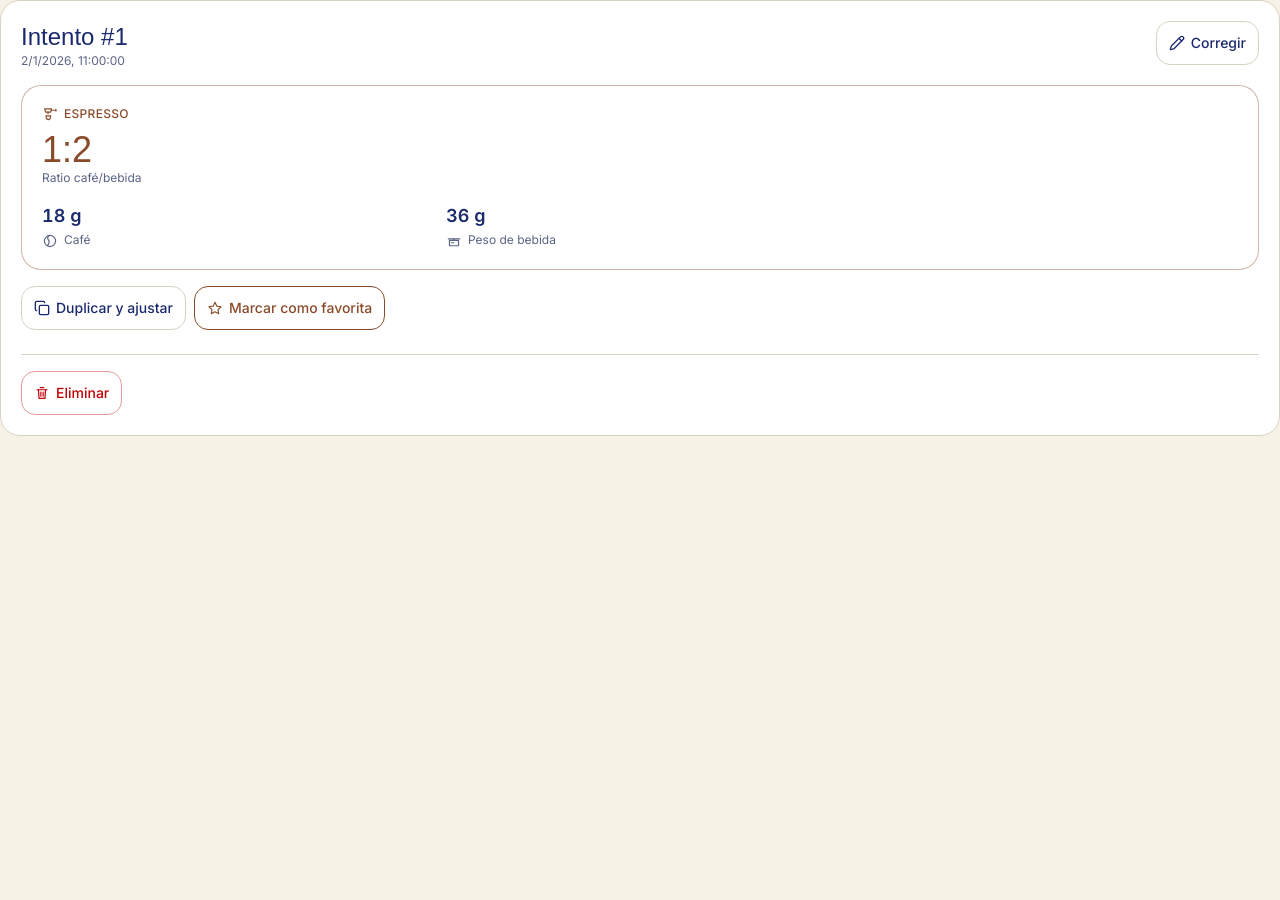
Test: AttemptDetailPanel delete › asks before deleting, naming the act rather than answering Sí/No
Click the button "Eliminar" at (72, 393), box [21,371,122,415]
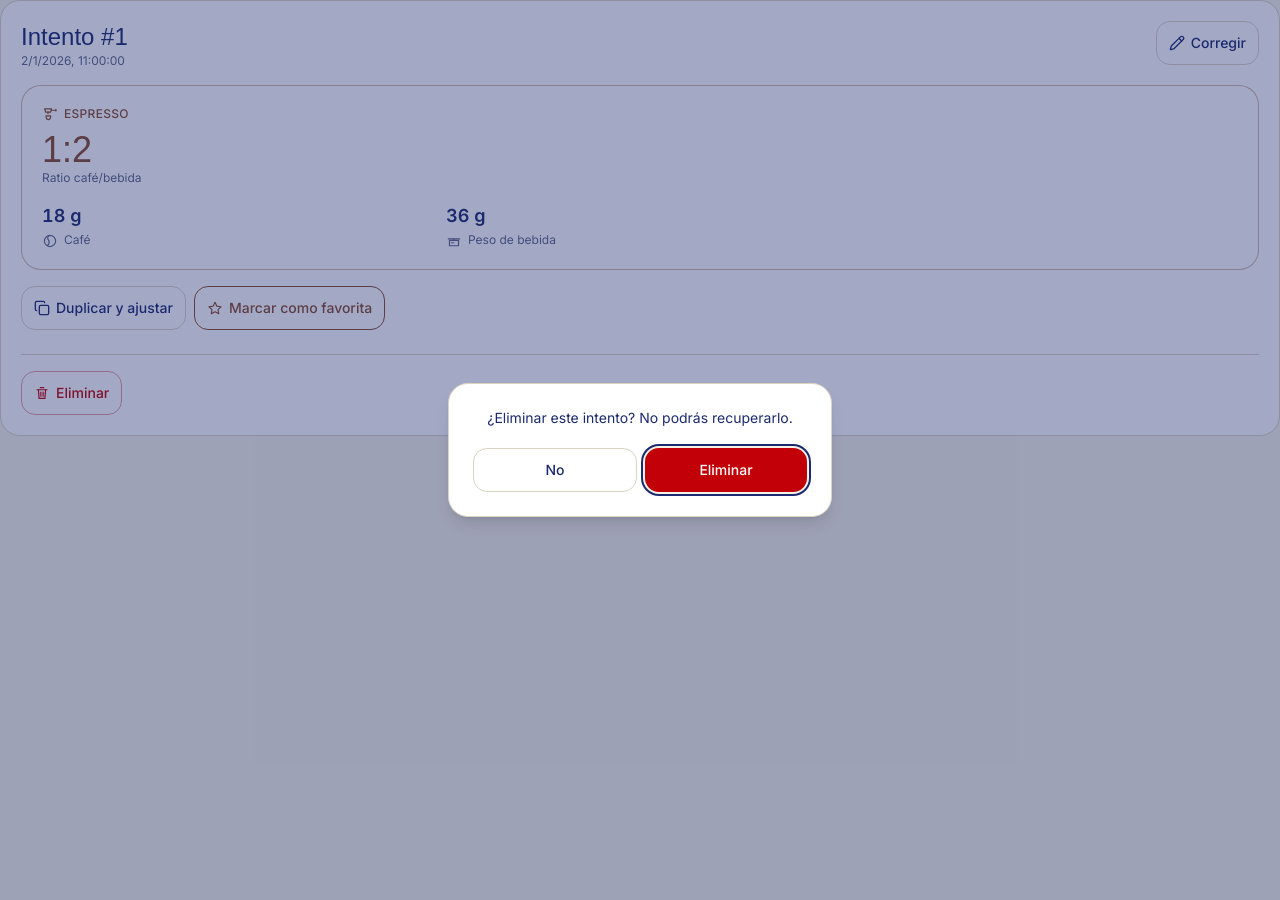
Now the text "¿Eliminar este intento? No podrás recuperarlo." is shown, box [473,408,807,428]
Now the number of buttons "Eliminar" is 2, box [21,371,122,415]; [645,448,807,492]
